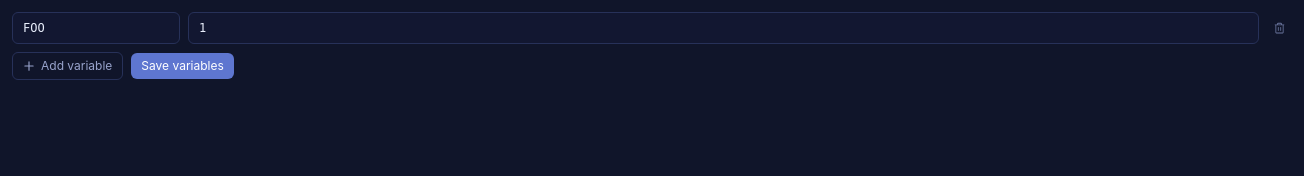
Test: EnvEditor › blocks a duplicate name
Click the button "Add variable" at (68, 66), box [12, 52, 123, 80]
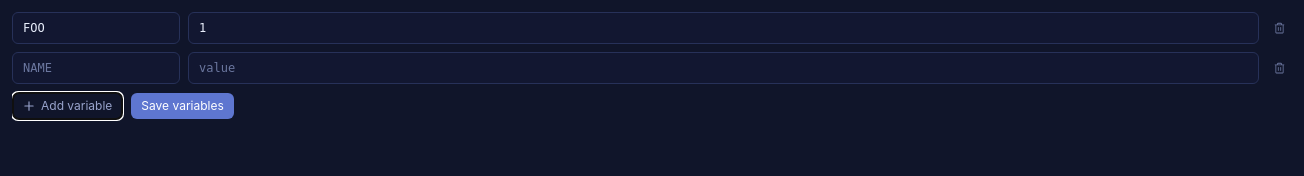
Type "FOO" into the field named "Variable 2 name" at (96, 68), box [12, 52, 180, 84]
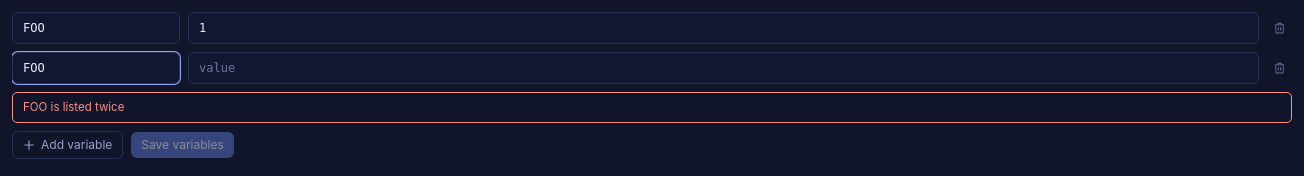
Expected: the text "FOO is listed twice" is shown, [12, 92, 1292, 123]
Expected: the button "Save variables" is disabled, [131, 132, 234, 158]
